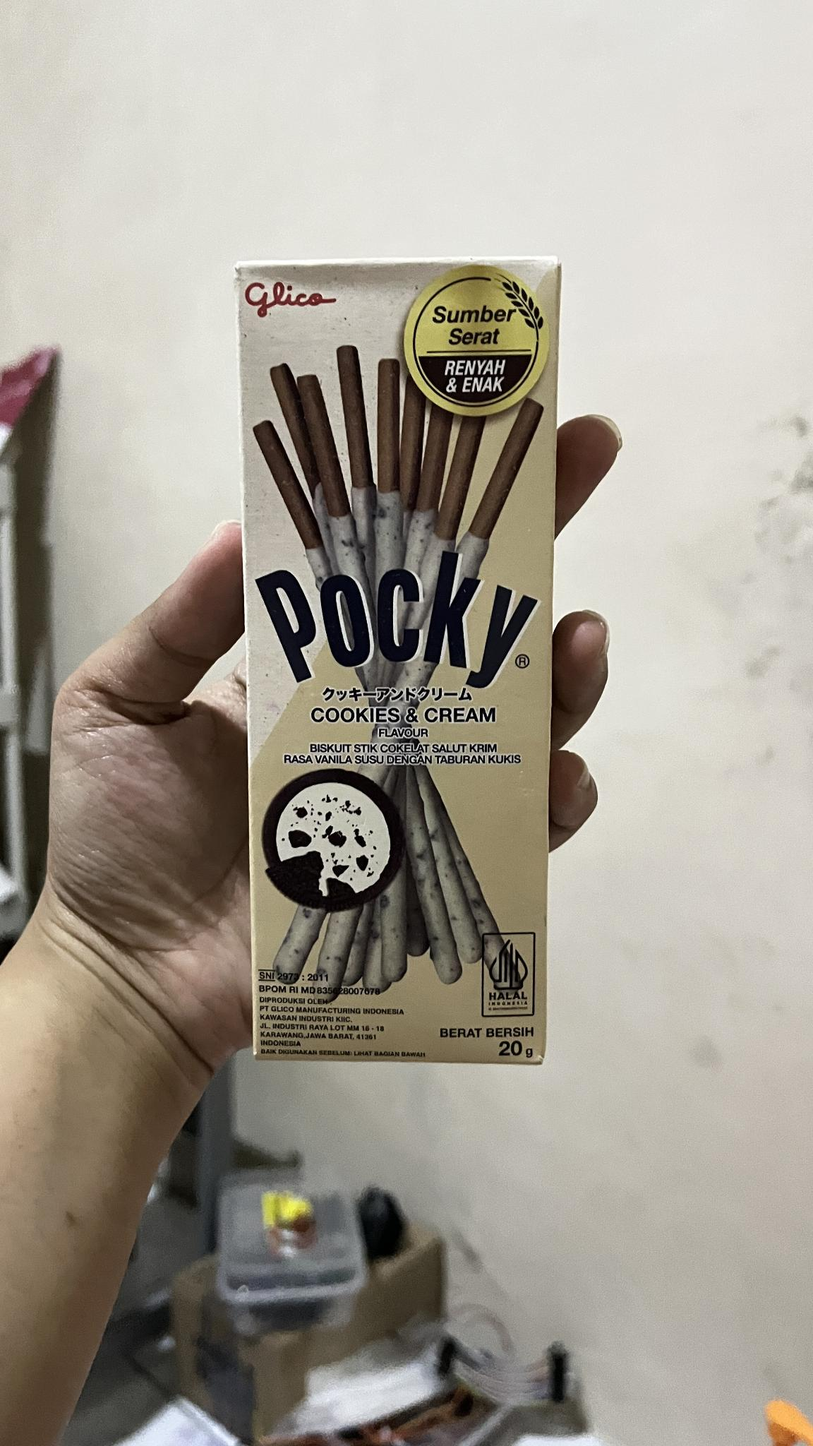Kertas: (244, 262, 563, 1062)
